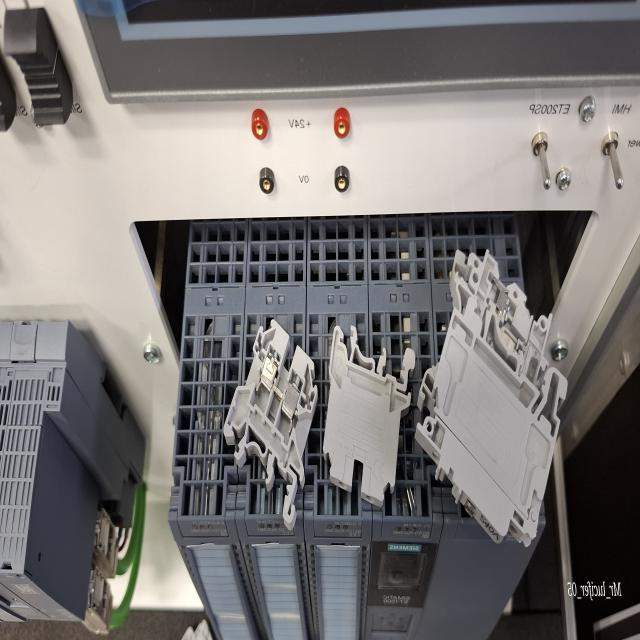Inverted: (317, 316, 427, 537)
Pass: (208, 320, 329, 528)
